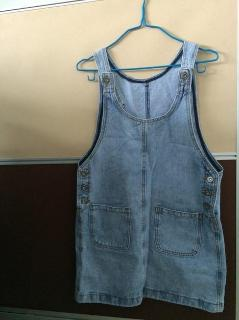sling: (74, 41, 229, 312)
